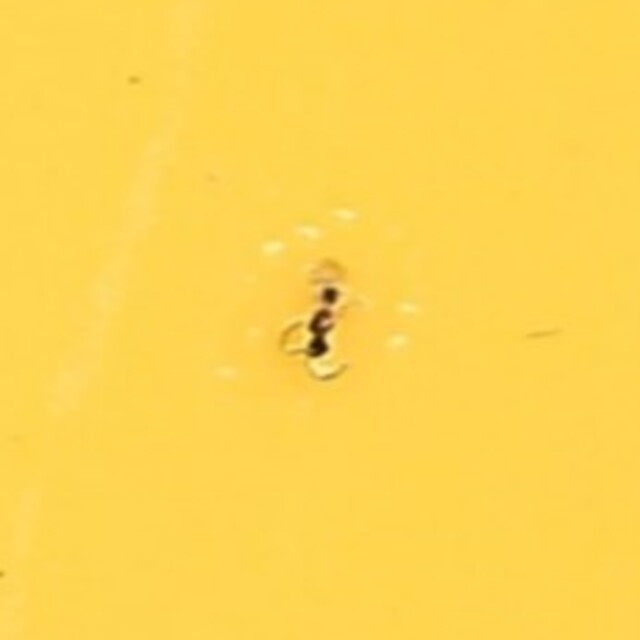Hymenoptera: (278, 251, 362, 389)
